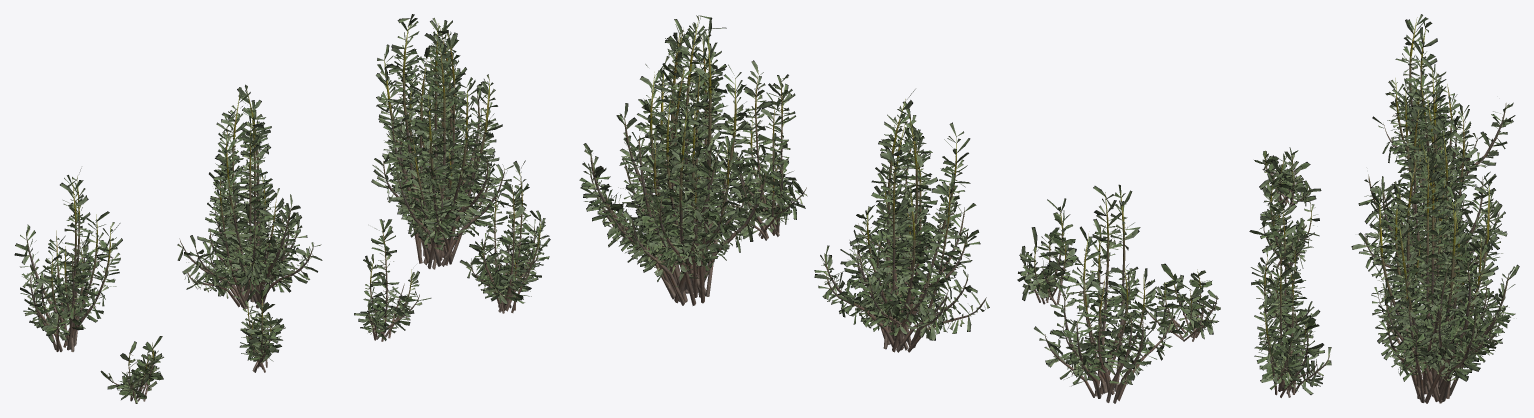
File: othonna_cerarioides.glb
The picture shows the model from 3 angles, left to right: view 1: azimuth 30°, elevation 25°; view 2: azimuth 150°, elevation 25°; view 3: azimuth 270°, elevation 25°; orthographic projection. The views are drawn at different scales.
Parts seen in each view (by area): view 1: othonna_cerarioides_a, othonna_cerarioides_b, othonna_cerarioides_c, othonna_cerarioides_d, othonna_cerarioides_e, othonna_cerarioides_f, othonna_cerarioides_g; view 2: othonna_cerarioides_a, othonna_cerarioides_b, othonna_cerarioides_c, othonna_cerarioides_d, othonna_cerarioides_g, othonna_cerarioides_f, othonna_cerarioides_e; view 3: othonna_cerarioides_a, othonna_cerarioides_b, othonna_cerarioides_d, othonna_cerarioides_c, othonna_cerarioides_f, othonna_cerarioides_e, othonna_cerarioides_g.
Boxes of the visible parts, <box> form: othonna_cerarioides_a: <box>371,14,513,269</box>; othonna_cerarioides_b: <box>177,84,322,309</box>; othonna_cerarioides_c: <box>14,168,122,351</box>; othonna_cerarioides_d: <box>460,160,550,313</box>; othonna_cerarioides_e: <box>354,219,431,341</box>; othonna_cerarioides_f: <box>239,283,285,372</box>; othonna_cerarioides_g: <box>100,336,163,403</box>; othonna_cerarioides_a: <box>579,15,779,305</box>; othonna_cerarioides_b: <box>814,89,989,352</box>; othonna_cerarioides_c: <box>1034,184,1181,403</box>; othonna_cerarioides_d: <box>718,60,807,240</box>; othonna_cerarioides_g: <box>1138,263,1220,341</box>; othonna_cerarioides_f: <box>1017,198,1078,305</box>; othonna_cerarioides_e: <box>849,127,953,268</box>; othonna_cerarioides_a: <box>1365,118,1519,403</box>; othonna_cerarioides_b: <box>1351,57,1507,300</box>; othonna_cerarioides_d: <box>1251,245,1331,397</box>; othonna_cerarioides_c: <box>1372,14,1515,204</box>; othonna_cerarioides_f: <box>1249,172,1319,269</box>; othonna_cerarioides_e: <box>1251,201,1320,331</box>; othonna_cerarioides_g: <box>1254,147,1321,206</box>.
Bounding box in the file's own units: 3.98 × 1.98 × 1.82.
Materials: 2 (2 with a texture image).
